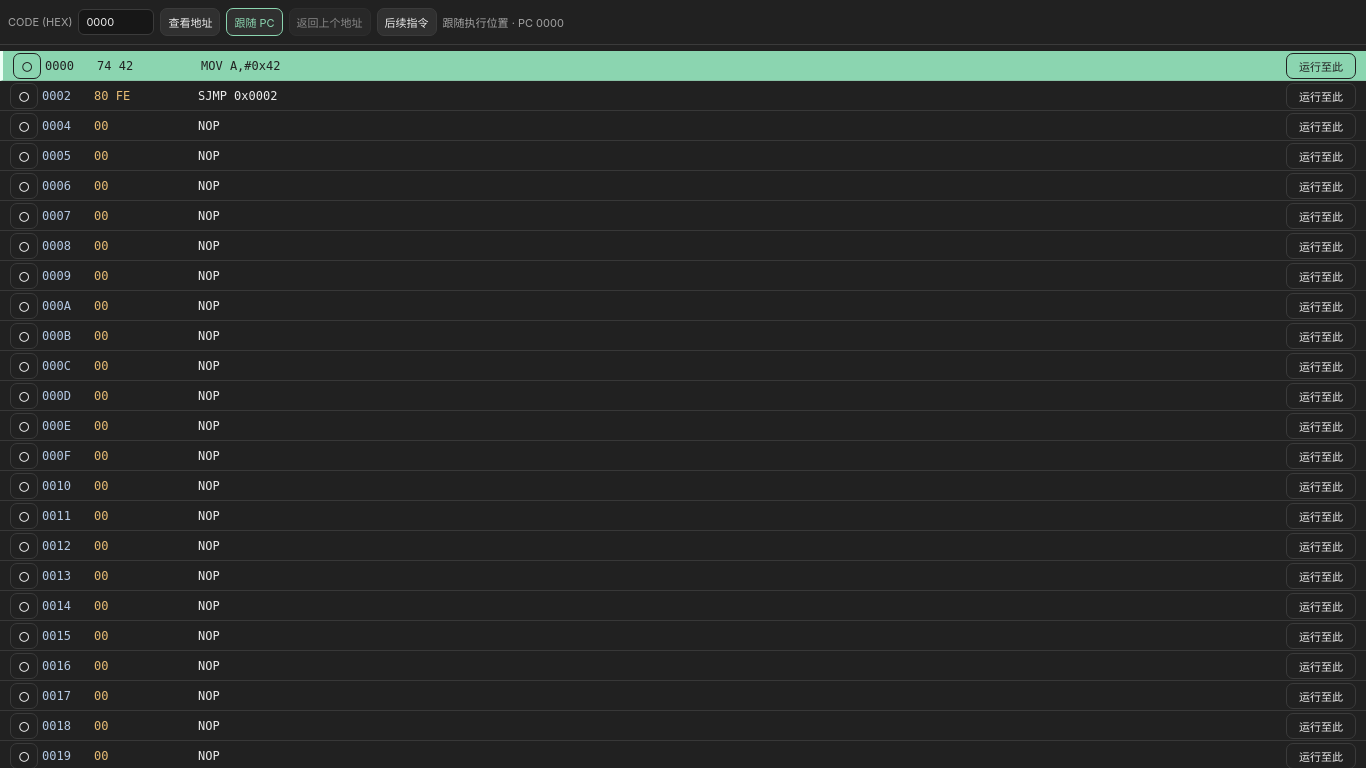
Test: DisassemblyView › advances by decoded instruction boundaries and navigates back without guessing
The width and height of the screenshot is (1366, 768).
Expected: the button "返回上个地址" is disabled, [289,8,371,36]
Step 1. Click the button "后续指令" → point(407, 22), box [377,8,437,36]
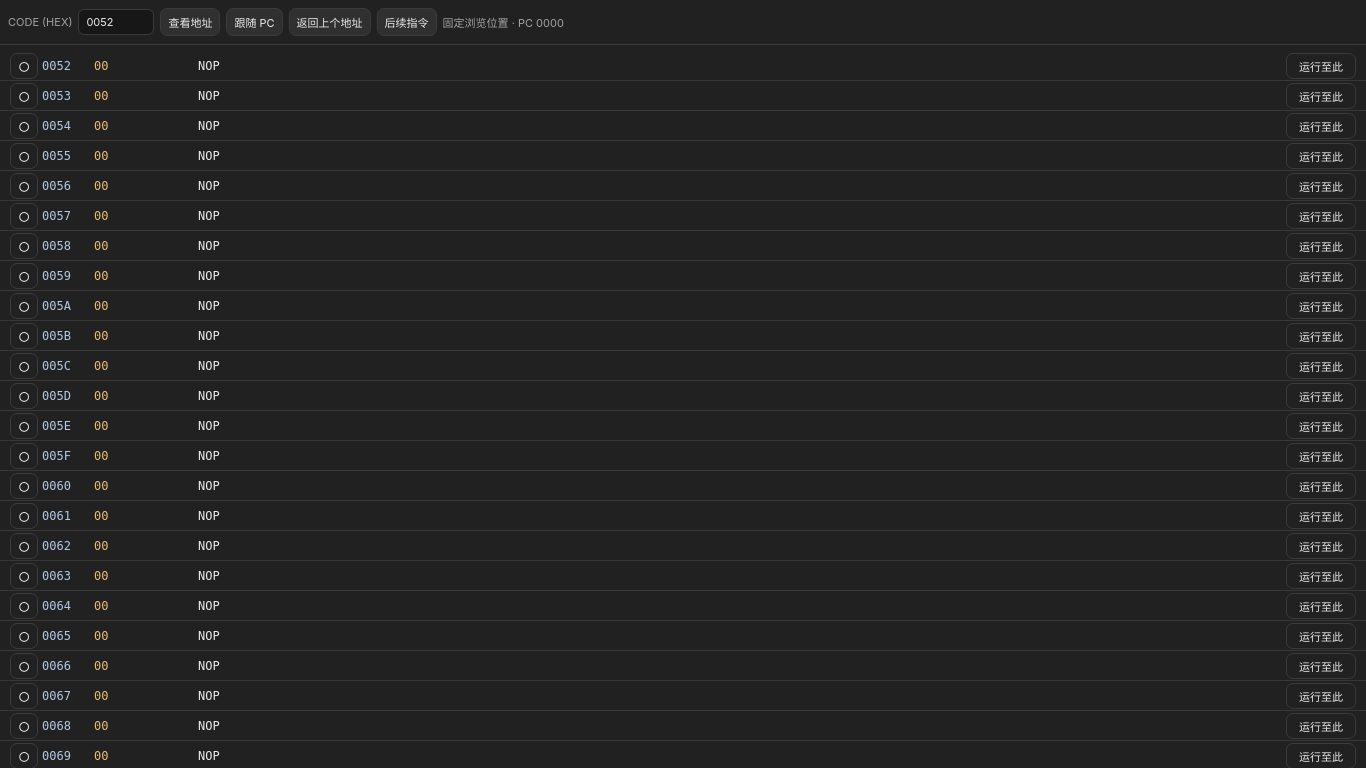
Step 2. Click the button "返回上个地址" → point(330, 22), box [289,8,371,36]
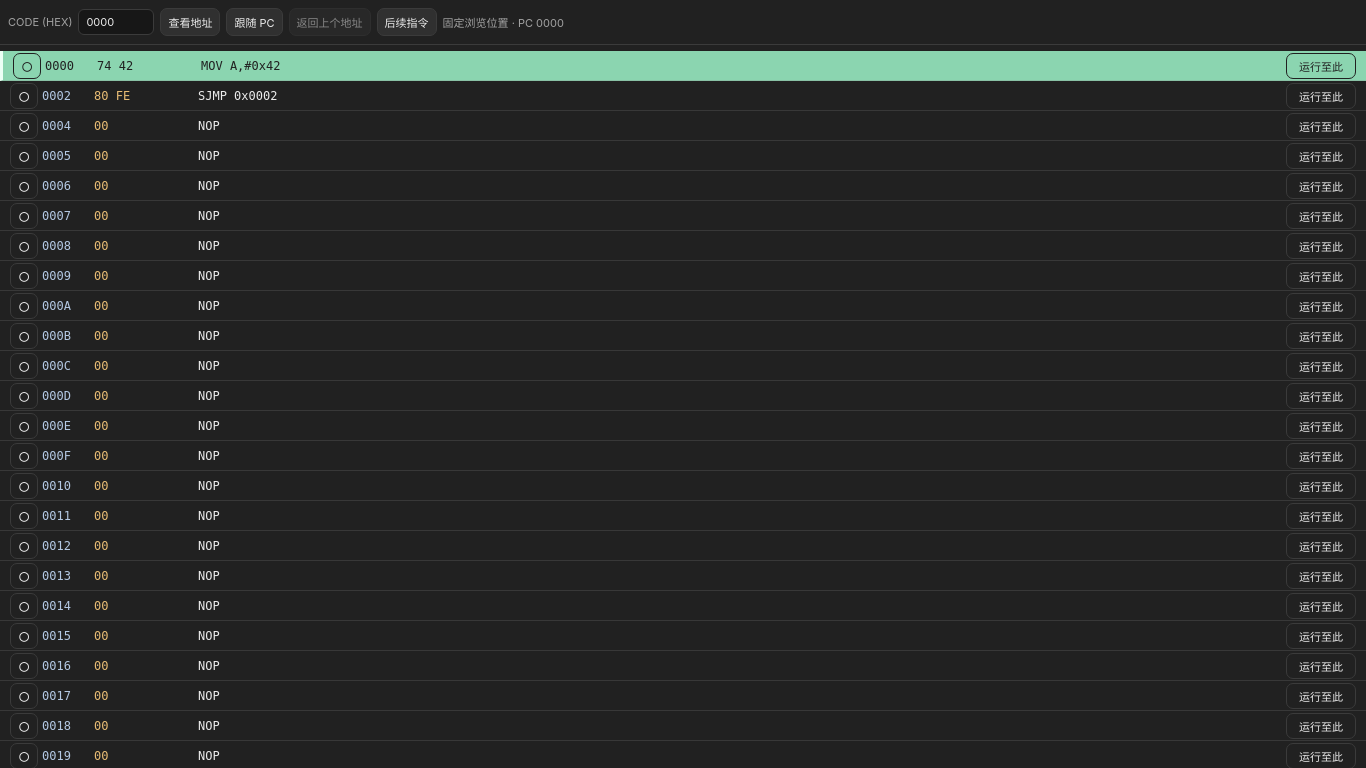
Expected: the button "返回上个地址" is disabled, [289,8,371,36]
